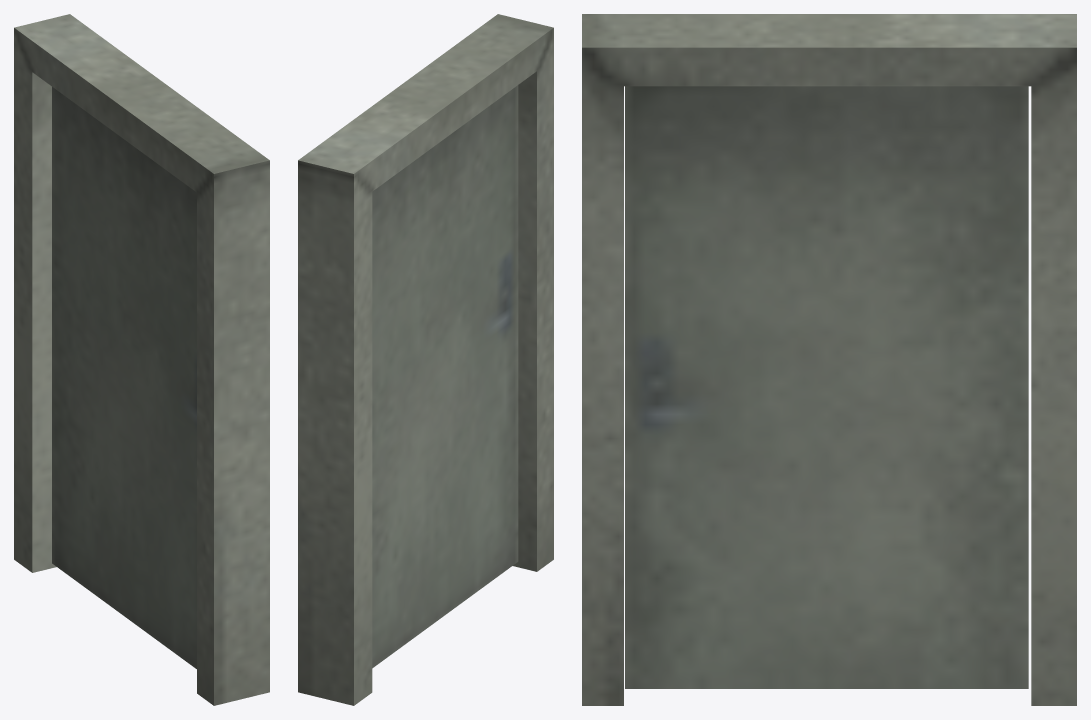
The model's file is door_01_com_frame.glb.
3 renders of one model, left to right at view 1: azimuth 30°, elevation 25°; view 2: azimuth 150°, elevation 25°; view 3: azimuth 270°, elevation 25°, orthographic. The views are drawn at different scales.
Visible parts, largest first — view 1: frame, porta; view 2: frame, porta; view 3: porta, frame.
Part boxes in pixels (x1,y1,x2,y2): frame: [14, 14, 269, 705]; porta: [52, 87, 196, 668]; frame: [298, 14, 553, 705]; porta: [372, 85, 518, 668]; porta: [625, 86, 1028, 688]; frame: [582, 14, 1076, 705].
Bounding box in the file's own units: 0.3597 × 3.27 × 2.23.
2 materials, 2 textured.
